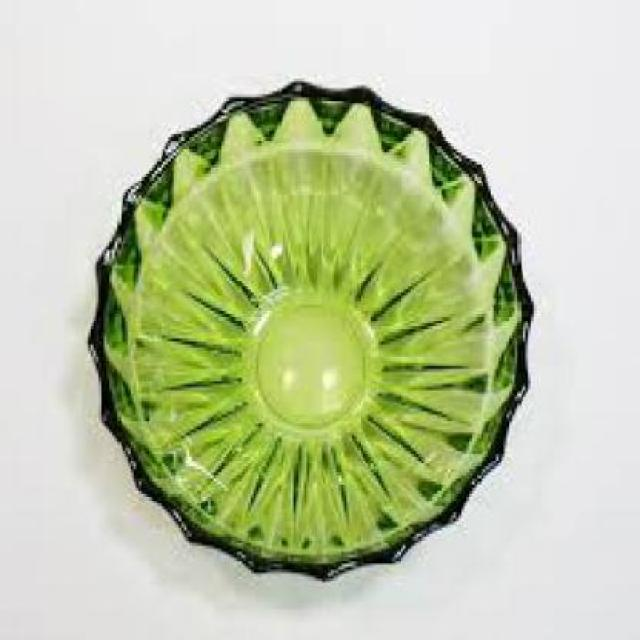GLASS: (84, 76, 530, 579)
